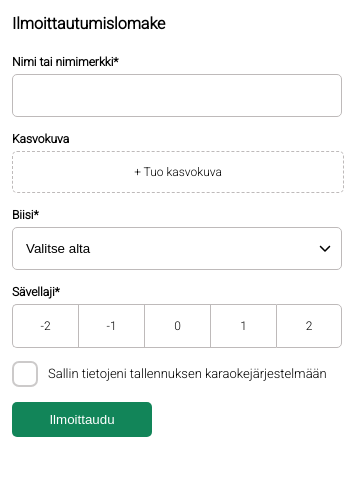
Test: KaraokeForm Component › shows an error message if the submit button is clicked with empty required fields
This screenshot has width=361, height=488.
Step 1. Click the button "Ilmoittaudu" → (82, 419), box [12,402,152,436]
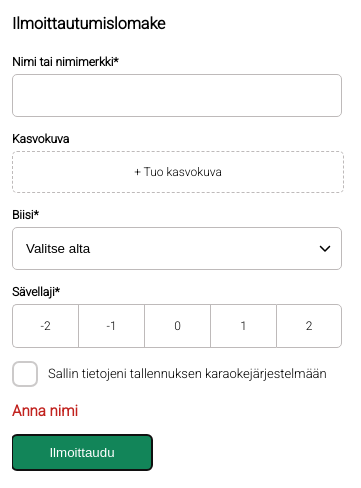
Check: the button "Ilmoittaudu" is enabled, box [12,434,152,470]
Check: the text "Anna nimi" is shown, box [12,402,78,420]
